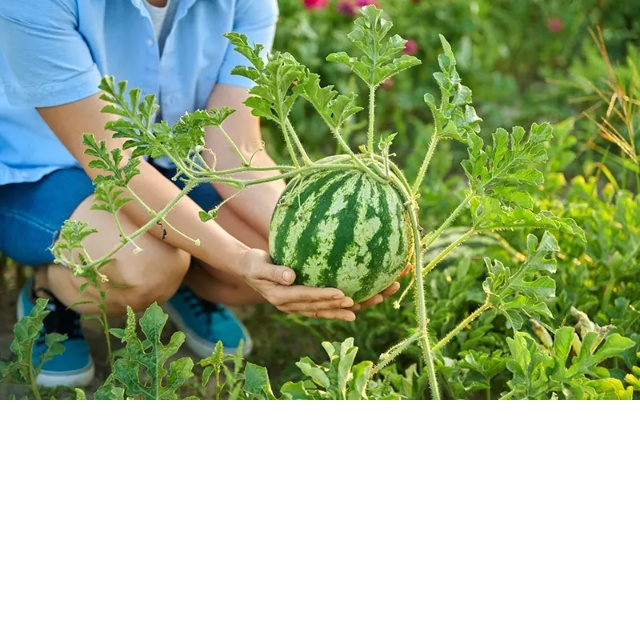dua_hau: (270, 163, 414, 305)
